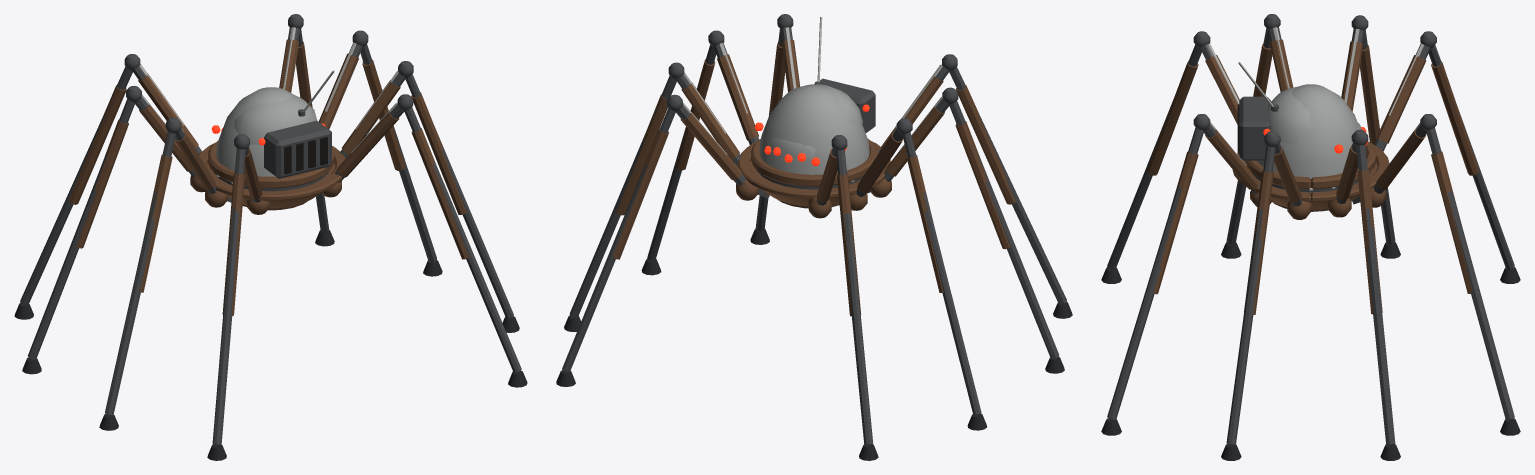
Rendered from spidertron.glb.
3 renders of one model, left to right at view 1: azimuth 30°, elevation 25°; view 2: azimuth 150°, elevation 25°; view 3: azimuth 270°, elevation 25°, orthographic. The views are drawn at different scales.
Parts seen in each view (by area): view 1: anim_torso, anim_leg_lower.006, anim_leg_lower.004, anim_leg_lower.007, anim_leg_lower.002, anim_leg_lower, anim_leg_lower.005, body, anim_leg_lower.003, anim_leg_lower.001, anim_leg_upper.005, anim_leg_upper.007 (+6 smaller); view 2: anim_torso, anim_leg_lower, anim_leg_lower.004, anim_leg_lower.002, anim_leg_lower.001, anim_leg_lower.006, anim_leg_lower.003, body, anim_leg_lower.005, anim_leg_lower.007, anim_leg_upper.005, anim_leg_upper.003 (+6 smaller); view 3: anim_torso, anim_leg_lower.007, anim_leg_lower.001, anim_leg_lower.005, anim_leg_lower.003, anim_leg_lower, anim_leg_lower.006, body, anim_leg_lower.002, anim_leg_lower.004, anim_leg_upper, anim_leg_upper.002 (+6 smaller).
Part boxes in pixels (x1,y1,x2,y2): anim_torso: (208, 70, 334, 191); anim_leg_lower.006: (207, 134, 249, 460); anim_leg_lower.004: (99, 117, 181, 430); anim_leg_lower.007: (397, 94, 527, 387); anim_leg_lower.002: (22, 86, 141, 374); anim_leg_lower: (14, 54, 140, 319); anim_leg_lower.005: (398, 61, 519, 332); body: (190, 143, 345, 214); anim_leg_lower.003: (352, 30, 442, 276); anim_leg_lower.001: (288, 14, 334, 246); anim_leg_upper.005: (340, 71, 405, 158); anim_leg_upper.007: (335, 102, 404, 182); anim_torso: (751, 17, 877, 189); anim_leg_lower: (831, 135, 878, 460); anim_leg_lower.004: (942, 87, 1064, 373); anim_leg_lower.002: (896, 118, 986, 430); anim_leg_lower.001: (556, 94, 682, 386); anim_leg_lower.006: (942, 54, 1072, 318); anim_leg_lower.003: (564, 62, 684, 331); body: (736, 141, 891, 218); anim_leg_lower.005: (641, 30, 724, 275); anim_leg_lower.007: (750, 14, 793, 244); anim_leg_upper.005: (714, 43, 759, 144); anim_leg_upper.003: (676, 73, 741, 165); anim_torso: (1237, 62, 1376, 192); anim_leg_lower.007: (1101, 114, 1210, 435); anim_leg_lower.001: (1420, 114, 1520, 435); anim_leg_lower.005: (1221, 131, 1280, 460); anim_leg_lower.003: (1351, 129, 1400, 460); anim_leg_lower: (1420, 31, 1520, 283); anim_leg_lower.006: (1101, 31, 1210, 283); body: (1232, 142, 1389, 219); anim_leg_lower.002: (1351, 15, 1400, 258); anim_leg_lower.004: (1221, 14, 1280, 258); anim_leg_upper: (1374, 43, 1430, 151); anim_leg_upper.002: (1341, 29, 1364, 111).
Bounding box in the file's own units: 6.25 × 4.26 × 5.26.
